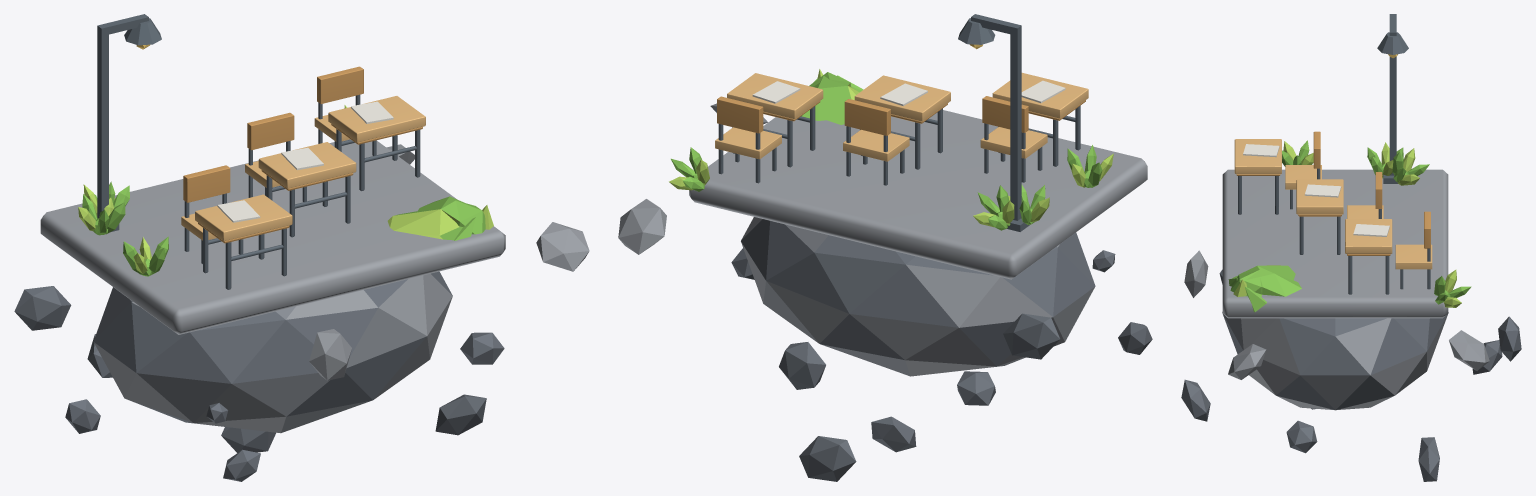
Rendered from Skyland4.fbx.
3 renders of one model, left to right at view 1: azimuth 30°, elevation 25°; view 2: azimuth 150°, elevation 25°; view 3: azimuth 270°, elevation 25°, orthographic. The views are drawn at different scales.
Visible parts, largest first — view 1: Superficie da ilha, Rocha principal low-poly, Pedras flutuantes.001, Mesa esquerda, Mesa centro, Mesa direita, Cúpula da luminaria, Pedras flutuantes, Grama, Cadeira esquerda, Cadeira centro, Cadeira direita (+5 smaller); view 2: Superficie da ilha, Rocha principal low-poly, Pedras flutuantes, Pedras flutuantes.001, Cúpula da luminaria, Cadeira direita, Cadeira centro, Mesa direita, Mesa centro, Cadeira esquerda, Mesa esquerda, Plantas (+6 smaller); view 3: Superficie da ilha, Rocha principal low-poly, Pedras flutuantes.001, Pedras flutuantes, Grama, Mesa direita, Mesa centro, Mesa esquerda, Cúpula da luminaria, Plantas, Cadeira direita, Cadeira esquerda (+6 smaller).
Boxes of the visible parts, x1,y1,x2,y2 form: Superficie da ilha: (40,139,505,334); Rocha principal low-poly: (93,271,452,433); Pedras flutuantes.001: (14,222,589,452); Mesa esquerda: (195,194,292,289); Mesa centro: (258,142,356,237); Mesa direita: (328,96,425,191); Cúpula da luminaria: (97,14,161,232); Pedras flutuantes: (87,144,414,481); Grama: (387,196,493,240); Cadeira esquerda: (181,165,243,263); Cadeira centro: (245,112,306,201); Cadeira direita: (314,66,376,155); Superficie da ilha: (689,110,1147,279); Rocha principal low-poly: (741,217,1095,376); Pedras flutuantes: (618,199,995,452); Pedras flutuantes.001: (710,103,1152,481); Cúpula da luminaria: (958,14,1029,231); Cadeira direita: (715,96,781,183); Cadeira centro: (843,99,909,185); Mesa direita: (727,73,823,167); Mesa centro: (854,75,950,169); Cadeira esquerda: (980,96,1047,182); Mesa esquerda: (992,72,1088,166); Plantas: (973,184,1049,230); Superficie da ilha: (1222,169,1448,318); Rocha principal low-poly: (1222,312,1448,410); Pedras flutuantes.001: (1181,269,1439,481); Pedras flutuantes: (1184,250,1521,409); Grama: (1228,265,1301,312); Mesa direita: (1345,219,1392,294); Mesa centro: (1296,179,1343,254); Mesa esquerda: (1234,139,1281,214); Cúpula da luminaria: (1377,14,1408,183); Plantas: (1367,142,1429,185); Cadeira direita: (1395,211,1432,289); Cadeira esquerda: (1285,131,1321,209).
Size of the model in its own units: 648 by 625 by 490.
